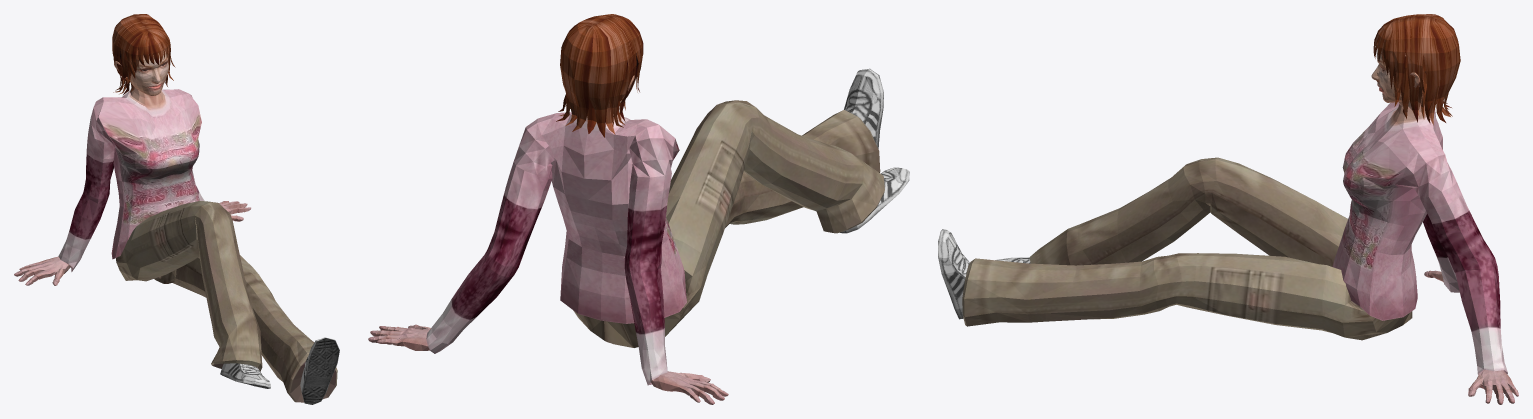
Rendered from sitFemale02.obj.
3 renders of one model, left to right at view 1: azimuth 30°, elevation 25°; view 2: azimuth 150°, elevation 25°; view 3: azimuth 270°, elevation 25°, orthographic. The views are drawn at different scales.
Visible parts, largest first — view 1: obj1221polySurface1161; view 2: obj1221polySurface1161; view 3: obj1221polySurface1161.
Boxes of the visible parts, left/top/right/bottom form: obj1221polySurface1161: left=14, top=14, right=339, bottom=404; obj1221polySurface1161: left=368, top=14, right=909, bottom=404; obj1221polySurface1161: left=938, top=14, right=1518, bottom=404.
Bounding box in the file's own units: 81.28 × 78.51 × 134.
Materials: 3 (3 with a texture image).
